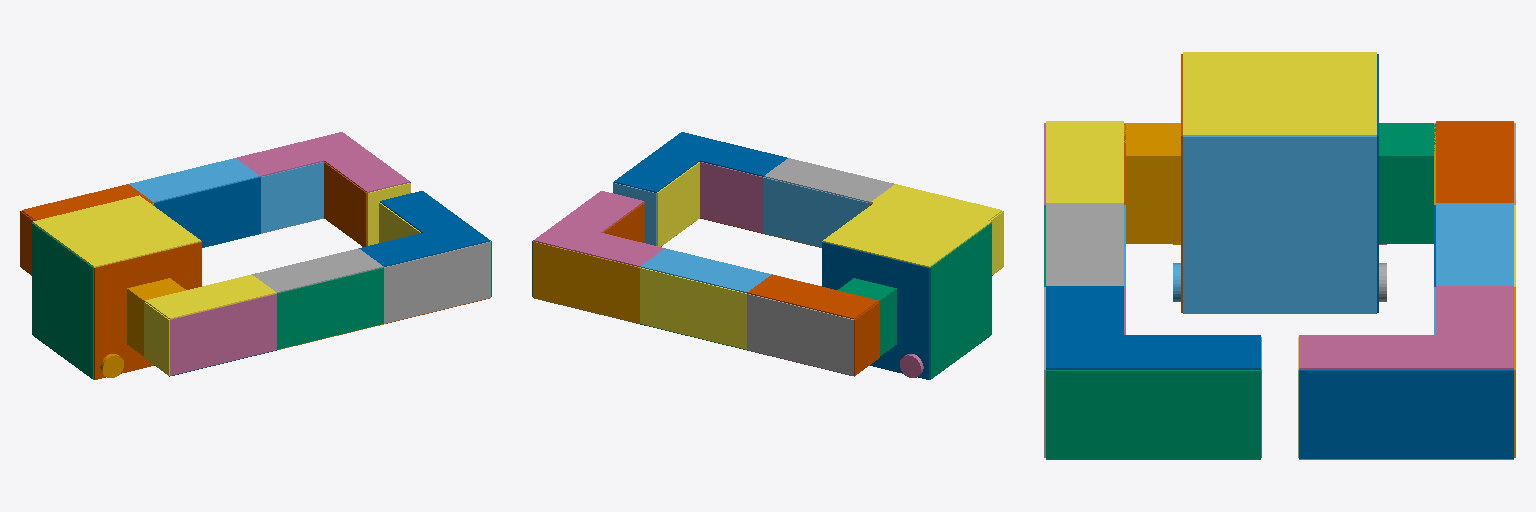
--- What the picture shows (computed from the rendered views, not written in the file) ---
The picture shows the robot from 3 angles, left to right: view 1: azimuth 30°, elevation 25°; view 2: azimuth 150°, elevation 25°; view 3: azimuth 270°, elevation 25°; orthographic projection.
Robot: robot — 76 links, 75 joints (2 continuous, 73 fixed); root link body; default pose: all joints at 0.
Links seen in each view (by area): view 1: body_sensor_0_stop, body_sensor_0_top, body_sensor_0_right, right_arm_sensor_0_right, right_arm_sensor_1_right, right_arm_sensor_2_right, left_arm_sensor_1_right, left_arm_sensor_2_right, right_arm_sensor_0_top, right_arm_sensor_2_top, left_arm_sensor_1_top, right_arm_sensor_1_top (+10 smaller); view 2: body_sensor_0_stop, body_sensor_0_top, body_sensor_0_left, left_arm_sensor_0_left, left_arm_sensor_1_left, left_arm_sensor_2_left, right_arm_sensor_1_left, right_arm_sensor_2_left, left_arm_sensor_0_top, left_arm_sensor_2_top, left_arm_sensor_1_top, right_arm_sensor_1_top (+10 smaller); view 3: body_sensor_0_start, body_sensor_0_top, left_hand_sensor_0_top, right_hand_sensor_0_top, left_arm_sensor_0_start, right_arm_sensor_0_start, joint_1, joint_2, left_arm_sensor_2_top, right_arm_sensor_2_top, left_arm_sensor_1_top, right_arm_sensor_1_top (+4 smaller).
Boxes of the visible links, x1,y1,x2,y2 form: body_sensor_0_stop: (32, 223, 93, 379); body_sensor_0_top: (33, 195, 200, 267); body_sensor_0_right: (94, 242, 201, 379); right_arm_sensor_0_right: (170, 294, 276, 375); right_arm_sensor_1_right: (277, 267, 383, 349); right_arm_sensor_2_right: (384, 241, 490, 323); left_arm_sensor_1_right: (154, 177, 260, 247); left_arm_sensor_2_right: (261, 162, 323, 232); right_arm_sensor_0_top: (145, 274, 276, 318); right_arm_sensor_2_top: (359, 222, 489, 266); left_arm_sensor_1_top: (129, 158, 259, 202); right_arm_sensor_1_top: (252, 248, 383, 292); body_sensor_0_stop: (930, 223, 991, 379); body_sensor_0_top: (823, 195, 990, 267); body_sensor_0_left: (822, 242, 929, 379); left_arm_sensor_0_left: (747, 294, 853, 375); left_arm_sensor_1_left: (640, 267, 746, 349); left_arm_sensor_2_left: (533, 241, 639, 323); right_arm_sensor_1_left: (763, 177, 869, 247); right_arm_sensor_2_left: (700, 162, 762, 232); left_arm_sensor_0_top: (747, 274, 878, 318); left_arm_sensor_2_top: (534, 222, 664, 266); left_arm_sensor_1_top: (640, 248, 771, 292); right_arm_sensor_1_top: (764, 158, 894, 202); body_sensor_0_start: (1183, 136, 1376, 313); body_sensor_0_top: (1183, 52, 1376, 135); left_hand_sensor_0_top: (1299, 370, 1435, 458); right_hand_sensor_0_top: (1124, 370, 1260, 458); left_arm_sensor_0_start: (1436, 370, 1513, 458); right_arm_sensor_0_start: (1046, 370, 1123, 458); joint_1: (1379, 123, 1435, 243); joint_2: (1124, 123, 1180, 243); left_arm_sensor_2_top: (1436, 286, 1513, 369); right_arm_sensor_2_top: (1046, 286, 1123, 369); left_arm_sensor_1_top: (1436, 203, 1513, 285); right_arm_sensor_1_top: (1046, 203, 1123, 285).
Size in the robot's own frame: 3.32 by 2.42 by 1.01 metres.
Geometry: primitives only (box / cylinder / sphere), no mesh files.

URDF robot description (robot):
<?xml version="1.0"?>
    <robot name="robot">


    <!-- body -->
    <link name="body">
        <inertial>
            <origin xyz="0 0 0" rpy="0 0 0"/>
            <mass value="100"/>
            <inertia ixx="15" ixy="0" ixz="0" iyy="15" iyz="0" izz="15"/>
        </inertial>
        <visual>
            <origin xyz="0 0 0" rpy="0 0 0"/>
            <geometry>
                <box size="1 1 1"/>
            </geometry>
        </visual>
        <collision>
            <origin xyz="0 0 0" rpy="0 0 0"/>
            <geometry>
                <box size="1 1 1"/>
            </geometry>
        </collision>
    </link>


    <!-- body_sensor_0_start -->
    <link name="body_sensor_0_start">
        <inertial>
            <origin xyz="0 0 0" rpy="0 0 0"/>
            <mass value="0"/>
            <inertia ixx="0" ixy="0" ixz="0" iyy="0" iyz="0" izz="0"/>
        </inertial>
        <visual>
            <origin xyz="0 0 0" rpy="0 0 0"/>
            <geometry>
                <box size="0.02 1 1"/>
            </geometry>
        </visual>
        <collision>
            <origin xyz="0 0 0" rpy="0 0 0"/>
            <geometry>
                <box size="0.02 1 1"/>
            </geometry>
        </collision>
    </link>
    <!-- Joint: body, body_sensor_0_start -->
    <joint name="body_body_sensor_0_start_joint" type="fixed">
        <parent link="body"/>
        <child link="body_sensor_0_start"/>
        <origin xyz="0.5 0 0"
                rpy="0 0 0"/>
        <axis xyz="1 0 0"/>
        
    </joint>


    <!-- body_sensor_0_stop -->
    <link name="body_sensor_0_stop">
        <inertial>
            <origin xyz="0 0 0" rpy="0 0 0"/>
            <mass value="0"/>
            <inertia ixx="0" ixy="0" ixz="0" iyy="0" iyz="0" izz="0"/>
        </inertial>
        <visual>
            <origin xyz="0 0 0" rpy="0 0 0"/>
            <geometry>
                <box size="0.02 1 1"/>
            </geometry>
        </visual>
        <collision>
            <origin xyz="0 0 0" rpy="0 0 0"/>
            <geometry>
                <box size="0.02 1 1"/>
            </geometry>
        </collision>
    </link>
    <!-- Joint: body, body_sensor_0_stop -->
    <joint name="body_body_sensor_0_stop_joint" type="fixed">
        <parent link="body"/>
        <child link="body_sensor_0_stop"/>
        <origin xyz="-0.5 0 0"
                rpy="0 0 0"/>
        <axis xyz="1 0 0"/>
        
    </joint>


    <!-- body_sensor_0_top -->
    <link name="body_sensor_0_top">
        <inertial>
            <origin xyz="0 0 0" rpy="0 0 0"/>
            <mass value="0"/>
            <inertia ixx="0" ixy="0" ixz="0" iyy="0" iyz="0" izz="0"/>
        </inertial>
        <visual>
            <origin xyz="0 0 0" rpy="0 0 0"/>
            <geometry>
                <box size="1.0 1 0.02"/>
            </geometry>
        </visual>
        <collision>
            <origin xyz="0 0 0" rpy="0 0 0"/>
            <geometry>
                <box size="1.0 1 0.02"/>
            </geometry>
        </collision>
    </link>
    <!-- Joint: body, body_sensor_0_top -->
    <joint name="body_body_sensor_0_top_joint" type="fixed">
        <parent link="body"/>
        <child link="body_sensor_0_top"/>
        <origin xyz="0 0 0.5"
                rpy="0 0 0"/>
        <axis xyz="1 0 0"/>
        
    </joint>


    <!-- body_sensor_0_left -->
    <link name="body_sensor_0_left">
        <inertial>
            <origin xyz="0 0 0" rpy="0 0 0"/>
            <mass value="0"/>
            <inertia ixx="0" ixy="0" ixz="0" iyy="0" iyz="0" izz="0"/>
        </inertial>
        <visual>
            <origin xyz="0 0 0" rpy="0 0 0"/>
            <geometry>
                <box size="1.0 0.02 1"/>
            </geometry>
        </visual>
        <collision>
            <origin xyz="0 0 0" rpy="0 0 0"/>
            <geometry>
                <box size="1.0 0.02 1"/>
            </geometry>
        </collision>
    </link>
    <!-- Joint: body, body_sensor_0_left -->
    <joint name="body_body_sensor_0_left_joint" type="fixed">
        <parent link="body"/>
        <child link="body_sensor_0_left"/>
        <origin xyz="0 0.5 0"
                rpy="0 0 0"/>
        <axis xyz="1 0 0"/>
        
    </joint>


    <!-- body_sensor_0_right -->
    <link name="body_sensor_0_right">
        <inertial>
            <origin xyz="0 0 0" rpy="0 0 0"/>
            <mass value="0"/>
            <inertia ixx="0" ixy="0" ixz="0" iyy="0" iyz="0" izz="0"/>
        </inertial>
        <visual>
            <origin xyz="0 0 0" rpy="0 0 0"/>
            <geometry>
                <box size="1.0 0.02 1"/>
            </geometry>
        </visual>
        <collision>
            <origin xyz="0 0 0" rpy="0 0 0"/>
            <geometry>
                <box size="1.0 0.02 1"/>
            </geometry>
        </collision>
    </link>
    <!-- Joint: body, body_sensor_0_right -->
    <joint name="body_body_sensor_0_right_joint" type="fixed">
        <parent link="body"/>
        <child link="body_sensor_0_right"/>
        <origin xyz="0 -0.5 0"
                rpy="0 0 0"/>
        <axis xyz="1 0 0"/>
        
    </joint>


    <!-- back_left_wheel -->
    <link name="back_left_wheel">
        <inertial>
            <origin xyz="0 0 0" rpy="0 0 0"/>
            <mass value="0.1"/>
            <inertia ixx="0.0005" ixy="0" ixz="0" iyy="0.0005" iyz="0" izz="0.0005"/>
        </inertial>
        <visual>
            <origin xyz="0 0 0" rpy="0 0 0"/>
            <geometry>
                <cylinder radius="0.1" length="0.1"/>
            </geometry>
        </visual>
        <collision>
            <origin xyz="0 0 0" rpy="0 0 0"/>
            <geometry>
                <cylinder radius="0.1" length="0.1"/>
            </geometry>
        </collision>
    </link>
    <!-- Joint: body, back_left_wheel -->
    <joint name="body_back_left_wheel_joint" type="fixed">
        <parent link="body"/>
        <child link="back_left_wheel"/>
        <origin xyz="-0.35 0.5 -0.4"
                rpy="1.5708 0 0"/>
        <axis xyz="1 0 0"/>
        
    </joint>


    <!-- from_left_wheel -->
    <link name="from_left_wheel">
        <inertial>
            <origin xyz="0 0 0" rpy="0 0 0"/>
            <mass value="0.1"/>
            <inertia ixx="0.0005" ixy="0" ixz="0" iyy="0.0005" iyz="0" izz="0.0005"/>
        </inertial>
        <visual>
            <origin xyz="0 0 0" rpy="0 0 0"/>
            <geometry>
                <cylinder radius="0.1" length="0.1"/>
            </geometry>
        </visual>
        <collision>
            <origin xyz="0 0 0" rpy="0 0 0"/>
            <geometry>
                <cylinder radius="0.1" length="0.1"/>
            </geometry>
        </collision>
    </link>
    <!-- Joint: body, from_left_wheel -->
    <joint name="body_from_left_wheel_joint" type="fixed">
        <parent link="body"/>
        <child link="from_left_wheel"/>
        <origin xyz="0.35 0.5 -0.4"
                rpy="1.5708 0 0"/>
        <axis xyz="1 0 0"/>
        
    </joint>


    <!-- back_right_wheel -->
    <link name="back_right_wheel">
        <inertial>
            <origin xyz="0 0 0" rpy="0 0 0"/>
            <mass value="0.1"/>
            <inertia ixx="0.0005" ixy="0" ixz="0" iyy="0.0005" iyz="0" izz="0.0005"/>
        </inertial>
        <visual>
            <origin xyz="0 0 0" rpy="0 0 0"/>
            <geometry>
                <cylinder radius="0.1" length="0.1"/>
            </geometry>
        </visual>
        <collision>
            <origin xyz="0 0 0" rpy="0 0 0"/>
            <geometry>
                <cylinder radius="0.1" length="0.1"/>
            </geometry>
        </collision>
    </link>
    <!-- Joint: body, back_right_wheel -->
    <joint name="body_back_right_wheel_joint" type="fixed">
        <parent link="body"/>
        <child link="back_right_wheel"/>
        <origin xyz="-0.35 -0.5 -0.4"
                rpy="1.5708 0 0"/>
        <axis xyz="1 0 0"/>
        
    </joint>


    <!-- from_right_wheel -->
    <link name="from_right_wheel">
        <inertial>
            <origin xyz="0 0 0" rpy="0 0 0"/>
            <mass value="0.1"/>
            <inertia ixx="0.0005" ixy="0" ixz="0" iyy="0.0005" iyz="0" izz="0.0005"/>
        </inertial>
        <visual>
            <origin xyz="0 0 0" rpy="0 0 0"/>
            <geometry>
                <cylinder radius="0.1" length="0.1"/>
            </geometry>
        </visual>
        <collision>
            <origin xyz="0 0 0" rpy="0 0 0"/>
            <geometry>
                <cylinder radius="0.1" length="0.1"/>
            </geometry>
        </collision>
    </link>
    <!-- Joint: body, from_right_wheel -->
    <joint name="body_from_right_wheel_joint" type="fixed">
        <parent link="body"/>
        <child link="from_right_wheel"/>
        <origin xyz="0.35 -0.5 -0.4"
                rpy="1.5708 0 0"/>
        <axis xyz="1 0 0"/>
        
    </joint>


    <!-- joint_1 -->
    <link name="joint_1">
        <inertial>
            <origin xyz="0 0 0" rpy="0 0 0"/>
            <mass value="0.1"/>
            <inertia ixx="0.05" ixy="0.05" ixz="0.05" iyy="0.05" iyz="0.05" izz="0.05"/>
        </inertial>
        <visual>
            <origin xyz="0 0 0" rpy="0 0 0"/>
            <geometry>
                <box size="0.4 0.3 0.5"/>
            </geometry>
        </visual>
        <collision>
            <origin xyz="0 0 0" rpy="0 0 0"/>
            <geometry>
                <box size="0.4 0.3 0.5"/>
            </geometry>
        </collision>
    </link>
    <!-- Joint: body, joint_1 -->
    <joint name="body_joint_1_joint" type="continuous">
        <parent link="body"/>
        <child link="joint_1"/>
        <origin xyz="0 0.65 0"
                rpy="0 0 0"/>
        <axis xyz="0 -1 0"/>
        <limit lower="0" upper="1.5707963267948966" effort="999" velocity="999"/>
    </joint>


    <!-- left_arm -->
    <link name="left_arm">
        <inertial>
            <origin xyz="0 0 0" rpy="0 0 0"/>
            <mass value="0.1"/>
            <inertia ixx="0.05" ixy="0.05" ixz="0.05" iyy="0.05" iyz="0.05" izz="0.05"/>
        </inertial>
        <visual>
            <origin xyz="0 0 0" rpy="0 0 0"/>
            <geometry>
                <box size="3 0.4 0.5"/>
            </geometry>
        </visual>
        <collision>
            <origin xyz="0 0 0" rpy="0 0 0"/>
            <geometry>
                <box size="3 0.4 0.5"/>
            </geometry>
        </collision>
    </link>


    <!-- left_arm_sensor_0_start -->
    <link name="left_arm_sensor_0_start">
        <inertial>
            <origin xyz="0 0 0" rpy="0 0 0"/>
            <mass value="0"/>
            <inertia ixx="0" ixy="0" ixz="0" iyy="0" iyz="0" izz="0"/>
        </inertial>
        <visual>
            <origin xyz="0 0 0" rpy="0 0 0"/>
            <geometry>
                <box size="0.02 0.4 0.5"/>
            </geometry>
        </visual>
        <collision>
            <origin xyz="0 0 0" rpy="0 0 0"/>
            <geometry>
                <box size="0.02 0.4 0.5"/>
            </geometry>
        </collision>
    </link>
    <!-- Joint: left_arm, left_arm_sensor_0_start -->
    <joint name="left_arm_left_arm_sensor_0_start_joint" type="fixed">
        <parent link="left_arm"/>
        <child link="left_arm_sensor_0_start"/>
        <origin xyz="1.5 0 0"
                rpy="0 0 0"/>
        <axis xyz="1 0 0"/>
        
    </joint>


    <!-- left_arm_sensor_0_top -->
    <link name="left_arm_sensor_0_top">
        <inertial>
            <origin xyz="0 0 0" rpy="0 0 0"/>
            <mass value="0"/>
            <inertia ixx="0" ixy="0" ixz="0" iyy="0" iyz="0" izz="0"/>
        </inertial>
        <visual>
            <origin xyz="0 0 0" rpy="0 0 0"/>
            <geometry>
                <box size="1.0 0.4 0.02"/>
            </geometry>
        </visual>
        <collision>
            <origin xyz="0 0 0" rpy="0 0 0"/>
            <geometry>
                <box size="1.0 0.4 0.02"/>
            </geometry>
        </collision>
    </link>
    <!-- Joint: left_arm, left_arm_sensor_0_top -->
    <joint name="left_arm_left_arm_sensor_0_top_joint" type="fixed">
        <parent link="left_arm"/>
        <child link="left_arm_sensor_0_top"/>
        <origin xyz="-1.0 0 0.25"
                rpy="0 0 0"/>
        <axis xyz="1 0 0"/>
        
    </joint>


    <!-- left_arm_sensor_0_bottom -->
    <link name="left_arm_sensor_0_bottom">
        <inertial>
            <origin xyz="0 0 0" rpy="0 0 0"/>
            <mass value="0"/>
            <inertia ixx="0" ixy="0" ixz="0" iyy="0" iyz="0" izz="0"/>
        </inertial>
        <visual>
            <origin xyz="0 0 0" rpy="0 0 0"/>
            <geometry>
                <box size="1.0 0.4 0.02"/>
            </geometry>
        </visual>
        <collision>
            <origin xyz="0 0 0" rpy="0 0 0"/>
            <geometry>
                <box size="1.0 0.4 0.02"/>
            </geometry>
        </collision>
    </link>
    <!-- Joint: left_arm, left_arm_sensor_0_bottom -->
    <joint name="left_arm_left_arm_sensor_0_bottom_joint" type="fixed">
        <parent link="left_arm"/>
        <child link="left_arm_sensor_0_bottom"/>
        <origin xyz="-1.0 0 -0.25"
                rpy="0 0 0"/>
        <axis xyz="1 0 0"/>
        
    </joint>


    <!-- left_arm_sensor_0_left -->
    <link name="left_arm_sensor_0_left">
        <inertial>
            <origin xyz="0 0 0" rpy="0 0 0"/>
            <mass value="0"/>
            <inertia ixx="0" ixy="0" ixz="0" iyy="0" iyz="0" izz="0"/>
        </inertial>
        <visual>
            <origin xyz="0 0 0" rpy="0 0 0"/>
            <geometry>
                <box size="1.0 0.02 0.5"/>
            </geometry>
        </visual>
        <collision>
            <origin xyz="0 0 0" rpy="0 0 0"/>
            <geometry>
                <box size="1.0 0.02 0.5"/>
            </geometry>
        </collision>
    </link>
    <!-- Joint: left_arm, left_arm_sensor_0_left -->
    <joint name="left_arm_left_arm_sensor_0_left_joint" type="fixed">
        <parent link="left_arm"/>
        <child link="left_arm_sensor_0_left"/>
        <origin xyz="-1.0 0.2 0"
                rpy="0 0 0"/>
        <axis xyz="1 0 0"/>
        
    </joint>


    <!-- left_arm_sensor_0_right -->
    <link name="left_arm_sensor_0_right">
        <inertial>
            <origin xyz="0 0 0" rpy="0 0 0"/>
            <mass value="0"/>
            <inertia ixx="0" ixy="0" ixz="0" iyy="0" iyz="0" izz="0"/>
        </inertial>
        <visual>
            <origin xyz="0 0 0" rpy="0 0 0"/>
            <geometry>
                <box size="1.0 0.02 0.5"/>
            </geometry>
        </visual>
        <collision>
            <origin xyz="0 0 0" rpy="0 0 0"/>
            <geometry>
                <box size="1.0 0.02 0.5"/>
            </geometry>
        </collision>
    </link>
    <!-- Joint: left_arm, left_arm_sensor_0_right -->
    <joint name="left_arm_left_arm_sensor_0_right_joint" type="fixed">
        <parent link="left_arm"/>
        <child link="left_arm_sensor_0_right"/>
        <origin xyz="-1.0 -0.2 0"
                rpy="0 0 0"/>
        <axis xyz="1 0 0"/>
        
    </joint>


    <!-- left_arm_sensor_1_top -->
    <link name="left_arm_sensor_1_top">
        <inertial>
            <origin xyz="0 0 0" rpy="0 0 0"/>
            <mass value="0"/>
            <inertia ixx="0" ixy="0" ixz="0" iyy="0" iyz="0" izz="0"/>
        </inertial>
        <visual>
            <origin xyz="0 0 0" rpy="0 0 0"/>
            <geometry>
                <box size="1.0 0.4 0.02"/>
            </geometry>
        </visual>
        <collision>
            <origin xyz="0 0 0" rpy="0 0 0"/>
            <geometry>
                <box size="1.0 0.4 0.02"/>
            </geometry>
        </collision>
    </link>
    <!-- Joint: left_arm, left_arm_sensor_1_top -->
    <joint name="left_arm_left_arm_sensor_1_top_joint" type="fixed">
        <parent link="left_arm"/>
        <child link="left_arm_sensor_1_top"/>
        <origin xyz="0.0 0 0.25"
                rpy="0 0 0"/>
        <axis xyz="1 0 0"/>
        
    </joint>


    <!-- left_arm_sensor_1_bottom -->
    <link name="left_arm_sensor_1_bottom">
        <inertial>
            <origin xyz="0 0 0" rpy="0 0 0"/>
            <mass value="0"/>
            <inertia ixx="0" ixy="0" ixz="0" iyy="0" iyz="0" izz="0"/>
        </inertial>
        <visual>
            <origin xyz="0 0 0" rpy="0 0 0"/>
            <geometry>
                <box size="1.0 0.4 0.02"/>
            </geometry>
        </visual>
        <collision>
            <origin xyz="0 0 0" rpy="0 0 0"/>
            <geometry>
                <box size="1.0 0.4 0.02"/>
            </geometry>
        </collision>
    </link>
    <!-- Joint: left_arm, left_arm_sensor_1_bottom -->
    <joint name="left_arm_left_arm_sensor_1_bottom_joint" type="fixed">
        <parent link="left_arm"/>
        <child link="left_arm_sensor_1_bottom"/>
        <origin xyz="0.0 0 -0.25"
                rpy="0 0 0"/>
        <axis xyz="1 0 0"/>
        
    </joint>


    <!-- left_arm_sensor_1_left -->
    <link name="left_arm_sensor_1_left">
        <inertial>
            <origin xyz="0 0 0" rpy="0 0 0"/>
            <mass value="0"/>
            <inertia ixx="0" ixy="0" ixz="0" iyy="0" iyz="0" izz="0"/>
        </inertial>
        <visual>
            <origin xyz="0 0 0" rpy="0 0 0"/>
            <geometry>
                <box size="1.0 0.02 0.5"/>
            </geometry>
        </visual>
        <collision>
            <origin xyz="0 0 0" rpy="0 0 0"/>
            <geometry>
                <box size="1.0 0.02 0.5"/>
            </geometry>
        </collision>
    </link>
    <!-- Joint: left_arm, left_arm_sensor_1_left -->
    <joint name="left_arm_left_arm_sensor_1_left_joint" type="fixed">
        <parent link="left_arm"/>
        <child link="left_arm_sensor_1_left"/>
        <origin xyz="0.0 0.2 0"
                rpy="0 0 0"/>
        <axis xyz="1 0 0"/>
        
    </joint>


    <!-- left_arm_sensor_1_right -->
    <link name="left_arm_sensor_1_right">
        <inertial>
            <origin xyz="0 0 0" rpy="0 0 0"/>
            <mass value="0"/>
            <inertia ixx="0" ixy="0" ixz="0" iyy="0" iyz="0" izz="0"/>
        </inertial>
        <visual>
            <origin xyz="0 0 0" rpy="0 0 0"/>
            <geometry>
                <box size="1.0 0.02 0.5"/>
            </geometry>
        </visual>
        <collision>
            <origin xyz="0 0 0" rpy="0 0 0"/>
            <geometry>
                <box size="1.0 0.02 0.5"/>
            </geometry>
        </collision>
    </link>
    <!-- Joint: left_arm, left_arm_sensor_1_right -->
    <joint name="left_arm_left_arm_sensor_1_right_joint" type="fixed">
        <parent link="left_arm"/>
        <child link="left_arm_sensor_1_right"/>
        <origin xyz="0.0 -0.2 0"
                rpy="0 0 0"/>
        <axis xyz="1 0 0"/>
        
    </joint>


    <!-- left_arm_sensor_2_stop -->
    <link name="left_arm_sensor_2_stop">
        <inertial>
            <origin xyz="0 0 0" rpy="0 0 0"/>
            <mass value="0"/>
            <inertia ixx="0" ixy="0" ixz="0" iyy="0" iyz="0" izz="0"/>
        </inertial>
        <visual>
            <origin xyz="0 0 0" rpy="0 0 0"/>
            <geometry>
                <box size="0.02 0.4 0.5"/>
            </geometry>
        </visual>
        <collision>
            <origin xyz="0 0 0" rpy="0 0 0"/>
            <geometry>
                <box size="0.02 0.4 0.5"/>
            </geometry>
        </collision>
    </link>
    <!-- Joint: left_arm, left_arm_sensor_2_stop -->
    <joint name="left_arm_left_arm_sensor_2_stop_joint" type="fixed">
        <parent link="left_arm"/>
        <child link="left_arm_sensor_2_stop"/>
        <origin xyz="-1.5 0 0"
                rpy="0 0 0"/>
        <axis xyz="1 0 0"/>
        
    </joint>


    <!-- left_arm_sensor_2_top -->
    <link name="left_arm_sensor_2_top">
        <inertial>
            <origin xyz="0 0 0" rpy="0 0 0"/>
            <mass value="0"/>
            <inertia ixx="0" ixy="0" ixz="0" iyy="0" iyz="0" izz="0"/>
        </inertial>
        <visual>
            <origin xyz="0 0 0" rpy="0 0 0"/>
            <geometry>
                <box size="1.0 0.4 0.02"/>
            </geometry>
        </visual>
        <collision>
            <origin xyz="0 0 0" rpy="0 0 0"/>
            <geometry>
                <box size="1.0 0.4 0.02"/>
            </geometry>
        </collision>
    </link>
    <!-- Joint: left_arm, left_arm_sensor_2_top -->
    <joint name="left_arm_left_arm_sensor_2_top_joint" type="fixed">
        <parent link="left_arm"/>
        <child link="left_arm_sensor_2_top"/>
        <origin xyz="1.0 0 0.25"
                rpy="0 0 0"/>
        <axis xyz="1 0 0"/>
        
    </joint>


    <!-- left_arm_sensor_2_bottom -->
    <link name="left_arm_sensor_2_bottom">
        <inertial>
            <origin xyz="0 0 0" rpy="0 0 0"/>
            <mass value="0"/>
            <inertia ixx="0" ixy="0" ixz="0" iyy="0" iyz="0" izz="0"/>
        </inertial>
        <visual>
            <origin xyz="0 0 0" rpy="0 0 0"/>
            <geometry>
                <box size="1.0 0.4 0.02"/>
            </geometry>
        </visual>
        <collision>
            <origin xyz="0 0 0" rpy="0 0 0"/>
            <geometry>
                <box size="1.0 0.4 0.02"/>
            </geometry>
        </collision>
    </link>
    <!-- Joint: left_arm, left_arm_sensor_2_bottom -->
    <joint name="left_arm_left_arm_sensor_2_bottom_joint" type="fixed">
        <parent link="left_arm"/>
        <child link="left_arm_sensor_2_bottom"/>
        <origin xyz="1.0 0 -0.25"
                rpy="0 0 0"/>
        <axis xyz="1 0 0"/>
        
    </joint>


    <!-- left_arm_sensor_2_left -->
    <link name="left_arm_sensor_2_left">
        <inertial>
            <origin xyz="0 0 0" rpy="0 0 0"/>
            <mass value="0"/>
            <inertia ixx="0" ixy="0" ixz="0" iyy="0" iyz="0" izz="0"/>
        </inertial>
        <visual>
            <origin xyz="0 0 0" rpy="0 0 0"/>
            <geometry>
                <box size="1.0 0.02 0.5"/>
            </geometry>
        </visual>
        <collision>
            <origin xyz="0 0 0" rpy="0 0 0"/>
            <geometry>
                <box size="1.0 0.02 0.5"/>
            </geometry>
        </collision>
    </link>
    <!-- Joint: left_arm, left_arm_sensor_2_left -->
    <joint name="left_arm_left_arm_sensor_2_left_joint" type="fixed">
        <parent link="left_arm"/>
        <child link="left_arm_sensor_2_left"/>
        <origin xyz="1.0 0.2 0"
                rpy="0 0 0"/>
        <axis xyz="1 0 0"/>
        
    </joint>


    <!-- left_arm_sensor_2_right -->
    <link name="left_arm_sensor_2_right">
        <inertial>
            <origin xyz="0 0 0" rpy="0 0 0"/>
            <mass value="0"/>
            <inertia ixx="0" ixy="0" ixz="0" iyy="0" iyz="0" izz="0"/>
        </inertial>
        <visual>
            <origin xyz="0 0 0" rpy="0 0 0"/>
            <geometry>
                <box size="1.0 0.02 0.5"/>
            </geometry>
        </visual>
        <collision>
            <origin xyz="0 0 0" rpy="0 0 0"/>
            <geometry>
                <box size="1.0 0.02 0.5"/>
            </geometry>
        </collision>
    </link>
    <!-- Joint: left_arm, left_arm_sensor_2_right -->
    <joint name="left_arm_left_arm_sensor_2_right_joint" type="fixed">
        <parent link="left_arm"/>
        <child link="left_arm_sensor_2_right"/>
        <origin xyz="1.0 -0.2 0"
                rpy="0 0 0"/>
        <axis xyz="1 0 0"/>
        
    </joint>
    <!-- Joint: joint_1, left_arm -->
    <joint name="joint_1_left_arm_joint" type="fixed">
        <parent link="joint_1"/>
        <child link="left_arm"/>
        <origin xyz="1.3 0.35 0"
                rpy="0 0 0"/>
        <axis xyz="1 0 0"/>
        
    </joint>


    <!-- left_hand -->
    <link name="left_hand">
        <inertial>
            <origin xyz="0 0 0" rpy="0 0 0"/>
            <mass value="0.1"/>
            <inertia ixx="0.05" ixy="0.05" ixz="0.05" iyy="0.05" iyz="0.05" izz="0.05"/>
        </inertial>
        <visual>
            <origin xyz="0 0 0" rpy="0 0 0"/>
            <geometry>
                <box size="0.4 0.7 0.5"/>
            </geometry>
        </visual>
        <collision>
            <origin xyz="0 0 0" rpy="0 0 0"/>
            <geometry>
                <box size="0.4 0.7 0.5"/>
            </geometry>
        </collision>
    </link>


    <!-- left_hand_sensor_0_stop -->
    <link name="left_hand_sensor_0_stop">
        <inertial>
            <origin xyz="0 0 0" rpy="0 0 0"/>
            <mass value="0"/>
            <inertia ixx="0" ixy="0" ixz="0" iyy="0" iyz="0" izz="0"/>
        </inertial>
        <visual>
            <origin xyz="0 0 0" rpy="0 0 0"/>
            <geometry>
                <box size="0.4 0.02 0.5"/>
            </geometry>
        </visual>
        <collision>
            <origin xyz="0 0 0" rpy="0 0 0"/>
            <geometry>
                <box size="0.4 0.02 0.5"/>
            </geometry>
        </collision>
    </link>
    <!-- Joint: left_hand, left_hand_sensor_0_stop -->
    <joint name="left_hand_left_hand_sensor_0_stop_joint" type="fixed">
        <parent link="left_hand"/>
        <child link="left_hand_sensor_0_stop"/>
        <origin xyz="0 -0.35 0"
                rpy="0 0 0"/>
        <axis xyz="0 0 1"/>
        
    </joint>


    <!-- left_hand_sensor_0_top -->
    <link name="left_hand_sensor_0_top">
        <inertial>
            <origin xyz="0 0 0" rpy="0 0 0"/>
            <mass value="0"/>
            <inertia ixx="0" ixy="0" ixz="0" iyy="0" iyz="0" izz="0"/>
        </inertial>
        <visual>
            <origin xyz="0 0 0" rpy="0 0 0"/>
            <geometry>
                <box size="0.02 0.7 0.5"/>
            </geometry>
        </visual>
        <collision>
            <origin xyz="0 0 0" rpy="0 0 0"/>
            <geometry>
                <box size="0.02 0.7 0.5"/>
            </geometry>
        </collision>
    </link>
    <!-- Joint: left_hand, left_hand_sensor_0_top -->
    <joint name="left_hand_left_hand_sensor_0_top_joint" type="fixed">
        <parent link="left_hand"/>
        <child link="left_hand_sensor_0_top"/>
        <origin xyz="0.2 0 0"
                rpy="0 0 0"/>
        <axis xyz="0 0 1"/>
        
    </joint>


    <!-- left_hand_sensor_0_bottom -->
    <link name="left_hand_sensor_0_bottom">
        <inertial>
            <origin xyz="0 0 0" rpy="0 0 0"/>
            <mass value="0"/>
            <inertia ixx="0" ixy="0" ixz="0" iyy="0" iyz="0" izz="0"/>
        </inertial>
        <visual>
            <origin xyz="0 0 0" rpy="0 0 0"/>
            <geometry>
                <box size="0.02 0.7 0.5"/>
            </geometry>
        </visual>
        <collision>
            <origin xyz="0 0 0" rpy="0 0 0"/>
            <geometry>
                <box size="0.02 0.7 0.5"/>
            </geometry>
        </collision>
    </link>
    <!-- Joint: left_hand, left_hand_sensor_0_bottom -->
    <joint name="left_hand_left_hand_sensor_0_bottom_joint" type="fixed">
        <parent link="left_hand"/>
        <child link="left_hand_sensor_0_bottom"/>
        <origin xyz="-0.2 0 0"
                rpy="0 0 0"/>
        <axis xyz="0 0 1"/>
        
    </joint>


    <!-- left_hand_sensor_0_left -->
    <link name="left_hand_sensor_0_left">
        <inertial>
            <origin xyz="0 0 0" rpy="0 0 0"/>
            <mass value="0"/>
            <inertia ixx="0" ixy="0" ixz="0" iyy="0" iyz="0" izz="0"/>
        </inertial>
        <visual>
            <origin xyz="0 0 0" rpy="0 0 0"/>
            <geometry>
                <box size="0.4 0.7 0.02"/>
            </geometry>
        </visual>
        <collision>
            <origin xyz="0 0 0" rpy="0 0 0"/>
            <geometry>
                <box size="0.4 0.7 0.02"/>
            </geometry>
        </collision>
    </link>
    <!-- Joint: left_hand, left_hand_sensor_0_left -->
    <joint name="left_hand_left_hand_sensor_0_left_joint" type="fixed">
        <parent link="left_hand"/>
        <child link="left_hand_sensor_0_left"/>
        <origin xyz="0 0 0.25"
                rpy="0 0 0"/>
        <axis xyz="0 0 1"/>
        
    </joint>


    <!-- left_hand_sensor_0_right -->
    <link name="left_hand_sensor_0_right">
        <inertial>
            <origin xyz="0 0 0" rpy="0 0 0"/>
            <mass value="0"/>
            <inertia ixx="0" ixy="0" ixz="0" iyy="0" iyz="0" izz="0"/>
        </inertial>
        <visual>
            <origin xyz="0 0 0" rpy="0 0 0"/>
            <geometry>
                <box size="0.4 0.7 0.02"/>
            </geometry>
        </visual>
        <collision>
            <origin xyz="0 0 0" rpy="0 0 0"/>
            <geometry>
                <box size="0.4 0.7 0.02"/>
            </geometry>
        </collision>
    </link>
    <!-- Joint: left_hand, left_hand_sensor_0_right -->
    <joint name="left_hand_left_hand_sensor_0_right_joint" type="fixed">
        <parent link="left_hand"/>
        <child link="left_hand_sensor_0_right"/>
        <origin xyz="0 0 -0.25"
                rpy="0 0 0"/>
        <axis xyz="0 0 1"/>
        
    </joint>
    <!-- Joint: left_arm, left_hand -->
    <joint name="left_arm_left_hand_joint" type="fixed">
        <parent link="left_arm"/>
        <child link="left_hand"/>
        <origin xyz="1.3 -0.55 0"
                rpy="0 0 0"/>
        <axis xyz="0 0 1"/>
        
    </joint>


    <!-- joint_2 -->
    <link name="joint_2">
        <inertial>
            <origin xyz="0 0 0" rpy="0 0 0"/>
            <mass value="0.1"/>
            <inertia ixx="0.05" ixy="0.05" ixz="0.05" iyy="0.05" iyz="0.05" izz="0.05"/>
        </inertial>
        <visual>
            <origin xyz="0 0 0" rpy="0 0 0"/>
            <geometry>
                <box size="0.4 0.3 0.5"/>
            </geometry>
        </visual>
        <collision>
            <origin xyz="0 0 0" rpy="0 0 0"/>
            <geometry>
                <box size="0.4 0.3 0.5"/>
            </geometry>
        </collision>
    </link>
    <!-- Joint: body, joint_2 -->
    <joint name="body_joint_2_joint" type="continuous">
        <parent link="body"/>
        <child link="joint_2"/>
        <origin xyz="0 -0.65 0"
                rpy="0 0 0"/>
        <axis xyz="0 -1 0"/>
        <limit lower="0" upper="1.5707963267948966" effort="999" velocity="999"/>
    </joint>


    <!-- right_arm -->
    <link name="right_arm">
        <inertial>
            <origin xyz="0 0 0" rpy="0 0 0"/>
            <mass value="0.1"/>
            <inertia ixx="0.05" ixy="0.05" ixz="0.05" iyy="0.05" iyz="0.05" izz="0.05"/>
        </inertial>
        <visual>
            <origin xyz="0 0 0" rpy="0 0 0"/>
            <geometry>
                <box size="3 0.4 0.5"/>
            </geometry>
        </visual>
        <collision>
            <origin xyz="0 0 0" rpy="0 0 0"/>
            <geometry>
                <box size="3 0.4 0.5"/>
            </geometry>
        </collision>
    </link>


    <!-- right_arm_sensor_0_start -->
    <link name="right_arm_sensor_0_start">
        <inertial>
            <origin xyz="0 0 0" rpy="0 0 0"/>
            <mass value="0"/>
            <inertia ixx="0" ixy="0" ixz="0" iyy="0" iyz="0" izz="0"/>
        </inertial>
        <visual>
            <origin xyz="0 0 0" rpy="0 0 0"/>
            <geometry>
                <box size="0.02 0.4 0.5"/>
            </geometry>
        </visual>
        <collision>
            <origin xyz="0 0 0" rpy="0 0 0"/>
            <geometry>
                <box size="0.02 0.4 0.5"/>
            </geometry>
        </collision>
    </link>
    <!-- Joint: right_arm, right_arm_sensor_0_start -->
    <joint name="right_arm_right_arm_sensor_0_start_joint" type="fixed">
        <parent link="right_arm"/>
        <child link="right_arm_sensor_0_start"/>
        <origin xyz="1.5 0 0"
                rpy="0 0 0"/>
        <axis xyz="1 0 0"/>
        
    </joint>


    <!-- right_arm_sensor_0_top -->
    <link name="right_arm_sensor_0_top">
        <inertial>
            <origin xyz="0 0 0" rpy="0 0 0"/>
            <mass value="0"/>
            <inertia ixx="0" ixy="0" ixz="0" iyy="0" iyz="0" izz="0"/>
        </inertial>
        <visual>
            <origin xyz="0 0 0" rpy="0 0 0"/>
            <geometry>
                <box size="1.0 0.4 0.02"/>
            </geometry>
        </visual>
        <collision>
            <origin xyz="0 0 0" rpy="0 0 0"/>
            <geometry>
                <box size="1.0 0.4 0.02"/>
            </geometry>
        </collision>
    </link>
    <!-- Joint: right_arm, right_arm_sensor_0_top -->
    <joint name="right_arm_right_arm_sensor_0_top_joint" type="fixed">
        <parent link="right_arm"/>
        <child link="right_arm_sensor_0_top"/>
        <origin xyz="-1.0 0 0.25"
                rpy="0 0 0"/>
        <axis xyz="1 0 0"/>
        
    </joint>


    <!-- right_arm_sensor_0_bottom -->
    <link name="right_arm_sensor_0_bottom">
        <inertial>
            <origin xyz="0 0 0" rpy="0 0 0"/>
            <mass value="0"/>
            <inertia ixx="0" ixy="0" ixz="0" iyy="0" iyz="0" izz="0"/>
        </inertial>
        <visual>
            <origin xyz="0 0 0" rpy="0 0 0"/>
            <geometry>
                <box size="1.0 0.4 0.02"/>
            </geometry>
        </visual>
        <collision>
            <origin xyz="0 0 0" rpy="0 0 0"/>
            <geometry>
                <box size="1.0 0.4 0.02"/>
            </geometry>
        </collision>
    </link>
    <!-- Joint: right_arm, right_arm_sensor_0_bottom -->
    <joint name="right_arm_right_arm_sensor_0_bottom_joint" type="fixed">
        <parent link="right_arm"/>
        <child link="right_arm_sensor_0_bottom"/>
        <origin xyz="-1.0 0 -0.25"
                rpy="0 0 0"/>
        <axis xyz="1 0 0"/>
        
    </joint>


    <!-- right_arm_sensor_0_left -->
    <link name="right_arm_sensor_0_left">
        <inertial>
            <origin xyz="0 0 0" rpy="0 0 0"/>
            <mass value="0"/>
            <inertia ixx="0" ixy="0" ixz="0" iyy="0" iyz="0" izz="0"/>
        </inertial>
        <visual>
            <origin xyz="0 0 0" rpy="0 0 0"/>
            <geometry>
                <box size="1.0 0.02 0.5"/>
            </geometry>
        </visual>
        <collision>
            <origin xyz="0 0 0" rpy="0 0 0"/>
            <geometry>
                <box size="1.0 0.02 0.5"/>
            </geometry>
        </collision>
    </link>
    <!-- Joint: right_arm, right_arm_sensor_0_left -->
    <joint name="right_arm_right_arm_sensor_0_left_joint" type="fixed">
        <parent link="right_arm"/>
        <child link="right_arm_sensor_0_left"/>
        <origin xyz="-1.0 0.2 0"
                rpy="0 0 0"/>
        <axis xyz="1 0 0"/>
        
    </joint>


    <!-- right_arm_sensor_0_right -->
    <link name="right_arm_sensor_0_right">
        <inertial>
            <origin xyz="0 0 0" rpy="0 0 0"/>
            <mass value="0"/>
            <inertia ixx="0" ixy="0" ixz="0" iyy="0" iyz="0" izz="0"/>
        </inertial>
        <visual>
            <origin xyz="0 0 0" rpy="0 0 0"/>
            <geometry>
                <box size="1.0 0.02 0.5"/>
            </geometry>
        </visual>
        <collision>
            <origin xyz="0 0 0" rpy="0 0 0"/>
            <geometry>
                <box size="1.0 0.02 0.5"/>
            </geometry>
        </collision>
    </link>
    <!-- Joint: right_arm, right_arm_sensor_0_right -->
    <joint name="right_arm_right_arm_sensor_0_right_joint" type="fixed">
        <parent link="right_arm"/>
        <child link="right_arm_sensor_0_right"/>
        <origin xyz="-1.0 -0.2 0"
                rpy="0 0 0"/>
        <axis xyz="1 0 0"/>
        
    </joint>


    <!-- right_arm_sensor_1_top -->
    <link name="right_arm_sensor_1_top">
        <inertial>
            <origin xyz="0 0 0" rpy="0 0 0"/>
            <mass value="0"/>
            <inertia ixx="0" ixy="0" ixz="0" iyy="0" iyz="0" izz="0"/>
        </inertial>
        <visual>
            <origin xyz="0 0 0" rpy="0 0 0"/>
            <geometry>
                <box size="1.0 0.4 0.02"/>
            </geometry>
        </visual>
        <collision>
            <origin xyz="0 0 0" rpy="0 0 0"/>
            <geometry>
                <box size="1.0 0.4 0.02"/>
            </geometry>
        </collision>
    </link>
    <!-- Joint: right_arm, right_arm_sensor_1_top -->
    <joint name="right_arm_right_arm_sensor_1_top_joint" type="fixed">
        <parent link="right_arm"/>
        <child link="right_arm_sensor_1_top"/>
        <origin xyz="0.0 0 0.25"
                rpy="0 0 0"/>
        <axis xyz="1 0 0"/>
        
    </joint>


    <!-- right_arm_sensor_1_bottom -->
    <link name="right_arm_sensor_1_bottom">
        <inertial>
            <origin xyz="0 0 0" rpy="0 0 0"/>
            <mass value="0"/>
            <inertia ixx="0" ixy="0" ixz="0" iyy="0" iyz="0" izz="0"/>
        </inertial>
        <visual>
            <origin xyz="0 0 0" rpy="0 0 0"/>
            <geometry>
                <box size="1.0 0.4 0.02"/>
            </geometry>
        </visual>
        <collision>
            <origin xyz="0 0 0" rpy="0 0 0"/>
            <geometry>
                <box size="1.0 0.4 0.02"/>
            </geometry>
        </collision>
    </link>
    <!-- Joint: right_arm, right_arm_sensor_1_bottom -->
    <joint name="right_arm_right_arm_sensor_1_bottom_joint" type="fixed">
        <parent link="right_arm"/>
        <child link="right_arm_sensor_1_bottom"/>
        <origin xyz="0.0 0 -0.25"
                rpy="0 0 0"/>
        <axis xyz="1 0 0"/>
        
    </joint>


    <!-- right_arm_sensor_1_left -->
    <link name="right_arm_sensor_1_left">
        <inertial>
            <origin xyz="0 0 0" rpy="0 0 0"/>
            <mass value="0"/>
            <inertia ixx="0" ixy="0" ixz="0" iyy="0" iyz="0" izz="0"/>
        </inertial>
        <visual>
            <origin xyz="0 0 0" rpy="0 0 0"/>
            <geometry>
                <box size="1.0 0.02 0.5"/>
            </geometry>
        </visual>
        <collision>
            <origin xyz="0 0 0" rpy="0 0 0"/>
            <geometry>
                <box size="1.0 0.02 0.5"/>
            </geometry>
        </collision>
    </link>
    <!-- Joint: right_arm, right_arm_sensor_1_left -->
    <joint name="right_arm_right_arm_sensor_1_left_joint" type="fixed">
        <parent link="right_arm"/>
        <child link="right_arm_sensor_1_left"/>
        <origin xyz="0.0 0.2 0"
                rpy="0 0 0"/>
        <axis xyz="1 0 0"/>
        
    </joint>


    <!-- right_arm_sensor_1_right -->
    <link name="right_arm_sensor_1_right">
        <inertial>
            <origin xyz="0 0 0" rpy="0 0 0"/>
            <mass value="0"/>
            <inertia ixx="0" ixy="0" ixz="0" iyy="0" iyz="0" izz="0"/>
        </inertial>
        <visual>
            <origin xyz="0 0 0" rpy="0 0 0"/>
            <geometry>
                <box size="1.0 0.02 0.5"/>
            </geometry>
        </visual>
        <collision>
            <origin xyz="0 0 0" rpy="0 0 0"/>
            <geometry>
                <box size="1.0 0.02 0.5"/>
            </geometry>
        </collision>
    </link>
    <!-- Joint: right_arm, right_arm_sensor_1_right -->
    <joint name="right_arm_right_arm_sensor_1_right_joint" type="fixed">
        <parent link="right_arm"/>
        <child link="right_arm_sensor_1_right"/>
        <origin xyz="0.0 -0.2 0"
                rpy="0 0 0"/>
        <axis xyz="1 0 0"/>
        
    </joint>


    <!-- right_arm_sensor_2_stop -->
    <link name="right_arm_sensor_2_stop">
        <inertial>
            <origin xyz="0 0 0" rpy="0 0 0"/>
            <mass value="0"/>
            <inertia ixx="0" ixy="0" ixz="0" iyy="0" iyz="0" izz="0"/>
        </inertial>
        <visual>
            <origin xyz="0 0 0" rpy="0 0 0"/>
            <geometry>
                <box size="0.02 0.4 0.5"/>
            </geometry>
        </visual>
        <collision>
            <origin xyz="0 0 0" rpy="0 0 0"/>
            <geometry>
                <box size="0.02 0.4 0.5"/>
            </geometry>
        </collision>
    </link>
    <!-- Joint: right_arm, right_arm_sensor_2_stop -->
    <joint name="right_arm_right_arm_sensor_2_stop_joint" type="fixed">
        <parent link="right_arm"/>
        <child link="right_arm_sensor_2_stop"/>
        <origin xyz="-1.5 0 0"
                rpy="0 0 0"/>
        <axis xyz="1 0 0"/>
        
    </joint>


    <!-- right_arm_sensor_2_top -->
    <link name="right_arm_sensor_2_top">
        <inertial>
            <origin xyz="0 0 0" rpy="0 0 0"/>
            <mass value="0"/>
            <inertia ixx="0" ixy="0" ixz="0" iyy="0" iyz="0" izz="0"/>
        </inertial>
        <visual>
            <origin xyz="0 0 0" rpy="0 0 0"/>
            <geometry>
                <box size="1.0 0.4 0.02"/>
            </geometry>
        </visual>
        <collision>
            <origin xyz="0 0 0" rpy="0 0 0"/>
            <geometry>
                <box size="1.0 0.4 0.02"/>
            </geometry>
        </collision>
    </link>
    <!-- Joint: right_arm, right_arm_sensor_2_top -->
    <joint name="right_arm_right_arm_sensor_2_top_joint" type="fixed">
        <parent link="right_arm"/>
        <child link="right_arm_sensor_2_top"/>
        <origin xyz="1.0 0 0.25"
                rpy="0 0 0"/>
        <axis xyz="1 0 0"/>
        
    </joint>


    <!-- right_arm_sensor_2_bottom -->
    <link name="right_arm_sensor_2_bottom">
        <inertial>
            <origin xyz="0 0 0" rpy="0 0 0"/>
            <mass value="0"/>
            <inertia ixx="0" ixy="0" ixz="0" iyy="0" iyz="0" izz="0"/>
        </inertial>
        <visual>
            <origin xyz="0 0 0" rpy="0 0 0"/>
            <geometry>
                <box size="1.0 0.4 0.02"/>
            </geometry>
        </visual>
        <collision>
            <origin xyz="0 0 0" rpy="0 0 0"/>
            <geometry>
                <box size="1.0 0.4 0.02"/>
            </geometry>
        </collision>
    </link>
    <!-- Joint: right_arm, right_arm_sensor_2_bottom -->
    <joint name="right_arm_right_arm_sensor_2_bottom_joint" type="fixed">
        <parent link="right_arm"/>
        <child link="right_arm_sensor_2_bottom"/>
        <origin xyz="1.0 0 -0.25"
                rpy="0 0 0"/>
        <axis xyz="1 0 0"/>
        
    </joint>


    <!-- right_arm_sensor_2_left -->
    <link name="right_arm_sensor_2_left">
        <inertial>
            <origin xyz="0 0 0" rpy="0 0 0"/>
            <mass value="0"/>
            <inertia ixx="0" ixy="0" ixz="0" iyy="0" iyz="0" izz="0"/>
        </inertial>
        <visual>
            <origin xyz="0 0 0" rpy="0 0 0"/>
            <geometry>
                <box size="1.0 0.02 0.5"/>
            </geometry>
        </visual>
        <collision>
            <origin xyz="0 0 0" rpy="0 0 0"/>
            <geometry>
                <box size="1.0 0.02 0.5"/>
            </geometry>
        </collision>
    </link>
    <!-- Joint: right_arm, right_arm_sensor_2_left -->
    <joint name="right_arm_right_arm_sensor_2_left_joint" type="fixed">
        <parent link="right_arm"/>
        <child link="right_arm_sensor_2_left"/>
        <origin xyz="1.0 0.2 0"
                rpy="0 0 0"/>
        <axis xyz="1 0 0"/>
        
    </joint>


    <!-- right_arm_sensor_2_right -->
    <link name="right_arm_sensor_2_right">
        <inertial>
            <origin xyz="0 0 0" rpy="0 0 0"/>
            <mass value="0"/>
            <inertia ixx="0" ixy="0" ixz="0" iyy="0" iyz="0" izz="0"/>
        </inertial>
        <visual>
            <origin xyz="0 0 0" rpy="0 0 0"/>
            <geometry>
                <box size="1.0 0.02 0.5"/>
            </geometry>
        </visual>
        <collision>
            <origin xyz="0 0 0" rpy="0 0 0"/>
            <geometry>
                <box size="1.0 0.02 0.5"/>
            </geometry>
        </collision>
    </link>
    <!-- Joint: right_arm, right_arm_sensor_2_right -->
    <joint name="right_arm_right_arm_sensor_2_right_joint" type="fixed">
        <parent link="right_arm"/>
        <child link="right_arm_sensor_2_right"/>
        <origin xyz="1.0 -0.2 0"
                rpy="0 0 0"/>
        <axis xyz="1 0 0"/>
        
    </joint>
    <!-- Joint: joint_2, right_arm -->
    <joint name="joint_2_right_arm_joint" type="fixed">
        <parent link="joint_2"/>
        <child link="right_arm"/>
        <origin xyz="1.3 -0.35 0"
                rpy="0 0 0"/>
        <axis xyz="1 0 0"/>
        
    </joint>


    <!-- right_hand -->
    <link name="right_hand">
        <inertial>
            <origin xyz="0 0 0" rpy="0 0 0"/>
            <mass value="0.1"/>
            <inertia ixx="0.05" ixy="0.05" ixz="0.05" iyy="0.05" iyz="0.05" izz="0.05"/>
        </inertial>
        <visual>
            <origin xyz="0 0 0" rpy="0 0 0"/>
            <geometry>
                <box size="0.4 0.7 0.5"/>
            </geometry>
        </visual>
        <collision>
            <origin xyz="0 0 0" rpy="0 0 0"/>
            <geometry>
                <box size="0.4 0.7 0.5"/>
            </geometry>
        </collision>
    </link>


    <!-- right_hand_sensor_0_start -->
    <link name="right_hand_sensor_0_start">
        <inertial>
            <origin xyz="0 0 0" rpy="0 0 0"/>
            <mass value="0"/>
            <inertia ixx="0" ixy="0" ixz="0" iyy="0" iyz="0" izz="0"/>
        </inertial>
        <visual>
            <origin xyz="0 0 0" rpy="0 0 0"/>
            <geometry>
                <box size="0.4 0.02 0.5"/>
            </geometry>
        </visual>
        <collision>
            <origin xyz="0 0 0" rpy="0 0 0"/>
            <geometry>
                <box size="0.4 0.02 0.5"/>
            </geometry>
        </collision>
    </link>
    <!-- Joint: right_hand, right_hand_sensor_0_start -->
    <joint name="right_hand_right_hand_sensor_0_start_joint" type="fixed">
        <parent link="right_hand"/>
        <child link="right_hand_sensor_0_start"/>
        <origin xyz="0 0.35 0"
                rpy="0 0 0"/>
        <axis xyz="0 0 1"/>
        
    </joint>


    <!-- right_hand_sensor_0_top -->
    <link name="right_hand_sensor_0_top">
        <inertial>
            <origin xyz="0 0 0" rpy="0 0 0"/>
            <mass value="0"/>
            <inertia ixx="0" ixy="0" ixz="0" iyy="0" iyz="0" izz="0"/>
        </inertial>
        <visual>
            <origin xyz="0 0 0" rpy="0 0 0"/>
            <geometry>
                <box size="0.02 0.7 0.5"/>
            </geometry>
        </visual>
        <collision>
            <origin xyz="0 0 0" rpy="0 0 0"/>
            <geometry>
                <box size="0.02 0.7 0.5"/>
            </geometry>
        </collision>
    </link>
    <!-- Joint: right_hand, right_hand_sensor_0_top -->
    <joint name="right_hand_right_hand_sensor_0_top_joint" type="fixed">
        <parent link="right_hand"/>
        <child link="right_hand_sensor_0_top"/>
        <origin xyz="0.2 0 0"
                rpy="0 0 0"/>
        <axis xyz="0 0 1"/>
        
    </joint>


    <!-- right_hand_sensor_0_bottom -->
    <link name="right_hand_sensor_0_bottom">
        <inertial>
            <origin xyz="0 0 0" rpy="0 0 0"/>
            <mass value="0"/>
            <inertia ixx="0" ixy="0" ixz="0" iyy="0" iyz="0" izz="0"/>
        </inertial>
        <visual>
            <origin xyz="0 0 0" rpy="0 0 0"/>
            <geometry>
                <box size="0.02 0.7 0.5"/>
            </geometry>
        </visual>
        <collision>
            <origin xyz="0 0 0" rpy="0 0 0"/>
            <geometry>
                <box size="0.02 0.7 0.5"/>
            </geometry>
        </collision>
    </link>
    <!-- Joint: right_hand, right_hand_sensor_0_bottom -->
    <joint name="right_hand_right_hand_sensor_0_bottom_joint" type="fixed">
        <parent link="right_hand"/>
        <child link="right_hand_sensor_0_bottom"/>
        <origin xyz="-0.2 0 0"
                rpy="0 0 0"/>
        <axis xyz="0 0 1"/>
        
    </joint>


    <!-- right_hand_sensor_0_left -->
    <link name="right_hand_sensor_0_left">
        <inertial>
            <origin xyz="0 0 0" rpy="0 0 0"/>
            <mass value="0"/>
            <inertia ixx="0" ixy="0" ixz="0" iyy="0" iyz="0" izz="0"/>
        </inertial>
        <visual>
            <origin xyz="0 0 0" rpy="0 0 0"/>
            <geometry>
                <box size="0.4 0.7 0.02"/>
            </geometry>
        </visual>
        <collision>
            <origin xyz="0 0 0" rpy="0 0 0"/>
            <geometry>
                <box size="0.4 0.7 0.02"/>
            </geometry>
        </collision>
    </link>
    <!-- Joint: right_hand, right_hand_sensor_0_left -->
    <joint name="right_hand_right_hand_sensor_0_left_joint" type="fixed">
        <parent link="right_hand"/>
        <child link="right_hand_sensor_0_left"/>
        <origin xyz="0 0 0.25"
                rpy="0 0 0"/>
        <axis xyz="0 0 1"/>
        
    </joint>


    <!-- right_hand_sensor_0_right -->
    <link name="right_hand_sensor_0_right">
        <inertial>
            <origin xyz="0 0 0" rpy="0 0 0"/>
            <mass value="0"/>
            <inertia ixx="0" ixy="0" ixz="0" iyy="0" iyz="0" izz="0"/>
        </inertial>
        <visual>
            <origin xyz="0 0 0" rpy="0 0 0"/>
            <geometry>
                <box size="0.4 0.7 0.02"/>
            </geometry>
        </visual>
        <collision>
            <origin xyz="0 0 0" rpy="0 0 0"/>
            <geometry>
                <box size="0.4 0.7 0.02"/>
            </geometry>
        </collision>
    </link>
    <!-- Joint: right_hand, right_hand_sensor_0_right -->
    <joint name="right_hand_right_hand_sensor_0_right_joint" type="fixed">
        <parent link="right_hand"/>
        <child link="right_hand_sensor_0_right"/>
        <origin xyz="0 0 -0.25"
                rpy="0 0 0"/>
        <axis xyz="0 0 1"/>
        
    </joint>
    <!-- Joint: right_arm, right_hand -->
    <joint name="right_arm_right_hand_joint" type="fixed">
        <parent link="right_arm"/>
        <child link="right_hand"/>
        <origin xyz="1.3 0.55 0"
                rpy="0 0 0"/>
        <axis xyz="0 0 1"/>
        
    </joint>


    <!-- body_face_front_0 -->
    <link name="body_face_front_0">
        <inertial>
            <origin xyz="0 0 0" rpy="0 0 0"/>
            <mass value="0"/>
            <inertia ixx="0.05" ixy="0.05" ixz="0.05" iyy="0.05" iyz="0.05" izz="0.05"/>
        </inertial>
        <visual>
            <origin xyz="0 0 0" rpy="0 0 0"/>
            <geometry>
                <box size="0.002 0.1111111111111111 0.1111111111111111"/>
            </geometry>
        </visual>
        <collision>
            <origin xyz="0 0 0" rpy="0 0 0"/>
            <geometry>
                <box size="0.002 0.1111111111111111 0.1111111111111111"/>
            </geometry>
        </collision>
    </link>
    <!-- Joint: body, body_face_front_0 -->
    <joint name="body_body_face_front_0_joint" type="fixed">
        <parent link="body"/>
        <child link="body_face_front_0"/>
        <origin xyz="0.501 -0.33333333333333337 0.11111111111111116"
                rpy="0 0 0"/>
        <axis xyz="0 0 1"/>
        
    </joint>


    <!-- body_face_front_1 -->
    <link name="body_face_front_1">
        <inertial>
            <origin xyz="0 0 0" rpy="0 0 0"/>
            <mass value="0"/>
            <inertia ixx="0.05" ixy="0.05" ixz="0.05" iyy="0.05" iyz="0.05" izz="0.05"/>
        </inertial>
        <visual>
            <origin xyz="0 0 0" rpy="0 0 0"/>
            <geometry>
                <box size="0.002 0.1111111111111111 0.1111111111111111"/>
            </geometry>
        </visual>
        <collision>
            <origin xyz="0 0 0" rpy="0 0 0"/>
            <geometry>
                <box size="0.002 0.1111111111111111 0.1111111111111111"/>
            </geometry>
        </collision>
    </link>
    <!-- Joint: body, body_face_front_1 -->
    <joint name="body_body_face_front_1_joint" type="fixed">
        <parent link="body"/>
        <child link="body_face_front_1"/>
        <origin xyz="0.501 -0.2222222222222222 0.2222222222222222"
                rpy="0 0 0"/>
        <axis xyz="0 0 1"/>
        
    </joint>


    <!-- body_face_front_2 -->
    <link name="body_face_front_2">
        <inertial>
            <origin xyz="0 0 0" rpy="0 0 0"/>
            <mass value="0"/>
            <inertia ixx="0.05" ixy="0.05" ixz="0.05" iyy="0.05" iyz="0.05" izz="0.05"/>
        </inertial>
        <visual>
            <origin xyz="0 0 0" rpy="0 0 0"/>
            <geometry>
                <box size="0.002 0.1111111111111111 0.1111111111111111"/>
            </geometry>
        </visual>
        <collision>
            <origin xyz="0 0 0" rpy="0 0 0"/>
            <geometry>
                <box size="0.002 0.1111111111111111 0.1111111111111111"/>
            </geometry>
        </collision>
    </link>
    <!-- Joint: body, body_face_front_2 -->
    <joint name="body_body_face_front_2_joint" type="fixed">
        <parent link="body"/>
        <child link="body_face_front_2"/>
        <origin xyz="0.501 -0.1111111111111111 0.11111111111111116"
                rpy="0 0 0"/>
        <axis xyz="0 0 1"/>
        
    </joint>


    <!-- body_face_front_3 -->
    <link name="body_face_front_3">
        <inertial>
            <origin xyz="0 0 0" rpy="0 0 0"/>
            <mass value="0"/>
            <inertia ixx="0.05" ixy="0.05" ixz="0.05" iyy="0.05" iyz="0.05" izz="0.05"/>
        </inertial>
        <visual>
            <origin xyz="0 0 0" rpy="0 0 0"/>
            <geometry>
                <box size="0.002 0.1111111111111111 0.1111111111111111"/>
            </geometry>
        </visual>
        <collision>
            <origin xyz="0 0 0" rpy="0 0 0"/>
            <geometry>
                <box size="0.002 0.1111111111111111 0.1111111111111111"/>
            </geometry>
        </collision>
    </link>
    <!-- Joint: body, body_face_front_3 -->
    <joint name="body_body_face_front_3_joint" type="fixed">
        <parent link="body"/>
        <child link="body_face_front_3"/>
        <origin xyz="0.501 -0.1111111111111111 -0.2222222222222222"
                rpy="0 0 0"/>
        <axis xyz="0 0 1"/>
        
    </joint>


    <!-- body_face_front_4 -->
    <link name="body_face_front_4">
        <inertial>
            <origin xyz="0 0 0" rpy="0 0 0"/>
            <mass value="0"/>
            <inertia ixx="0.05" ixy="0.05" ixz="0.05" iyy="0.05" iyz="0.05" izz="0.05"/>
        </inertial>
        <visual>
            <origin xyz="0 0 0" rpy="0 0 0"/>
            <geometry>
                <box size="0.002 0.1111111111111111 0.1111111111111111"/>
            </geometry>
        </visual>
        <collision>
            <origin xyz="0 0 0" rpy="0 0 0"/>
            <geometry>
                <box size="0.002 0.1111111111111111 0.1111111111111111"/>
            </geometry>
        </collision>
    </link>
    <!-- Joint: body, body_face_front_4 -->
    <joint name="body_body_face_front_4_joint" type="fixed">
        <parent link="body"/>
        <child link="body_face_front_4"/>
        <origin xyz="0.501 0.0 -0.2222222222222222"
                rpy="0 0 0"/>
        <axis xyz="0 0 1"/>
        
    </joint>


    <!-- body_face_front_5 -->
    <link name="body_face_front_5">
        <inertial>
            <origin xyz="0 0 0" rpy="0 0 0"/>
            <mass value="0"/>
            <inertia ixx="0.05" ixy="0.05" ixz="0.05" iyy="0.05" iyz="0.05" izz="0.05"/>
        </inertial>
        <visual>
            <origin xyz="0 0 0" rpy="0 0 0"/>
            <geometry>
                <box size="0.002 0.1111111111111111 0.1111111111111111"/>
            </geometry>
        </visual>
        <collision>
            <origin xyz="0 0 0" rpy="0 0 0"/>
            <geometry>
                <box size="0.002 0.1111111111111111 0.1111111111111111"/>
            </geometry>
        </collision>
    </link>
    <!-- Joint: body, body_face_front_5 -->
    <joint name="body_body_face_front_5_joint" type="fixed">
        <parent link="body"/>
        <child link="body_face_front_5"/>
        <origin xyz="0.501 0.11111111111111116 0.11111111111111116"
                rpy="0 0 0"/>
        <axis xyz="0 0 1"/>
        
    </joint>


    <!-- body_face_front_6 -->
    <link name="body_face_front_6">
        <inertial>
            <origin xyz="0 0 0" rpy="0 0 0"/>
            <mass value="0"/>
            <inertia ixx="0.05" ixy="0.05" ixz="0.05" iyy="0.05" iyz="0.05" izz="0.05"/>
        </inertial>
        <visual>
            <origin xyz="0 0 0" rpy="0 0 0"/>
            <geometry>
                <box size="0.002 0.1111111111111111 0.1111111111111111"/>
            </geometry>
        </visual>
        <collision>
            <origin xyz="0 0 0" rpy="0 0 0"/>
            <geometry>
                <box size="0.002 0.1111111111111111 0.1111111111111111"/>
            </geometry>
        </collision>
    </link>
    <!-- Joint: body, body_face_front_6 -->
    <joint name="body_body_face_front_6_joint" type="fixed">
        <parent link="body"/>
        <child link="body_face_front_6"/>
        <origin xyz="0.501 0.11111111111111116 -0.2222222222222222"
                rpy="0 0 0"/>
        <axis xyz="0 0 1"/>
        
    </joint>


    <!-- body_face_front_7 -->
    <link name="body_face_front_7">
        <inertial>
            <origin xyz="0 0 0" rpy="0 0 0"/>
            <mass value="0"/>
            <inertia ixx="0.05" ixy="0.05" ixz="0.05" iyy="0.05" iyz="0.05" izz="0.05"/>
        </inertial>
        <visual>
            <origin xyz="0 0 0" rpy="0 0 0"/>
            <geometry>
                <box size="0.002 0.1111111111111111 0.1111111111111111"/>
            </geometry>
        </visual>
        <collision>
            <origin xyz="0 0 0" rpy="0 0 0"/>
            <geometry>
                <box size="0.002 0.1111111111111111 0.1111111111111111"/>
            </geometry>
        </collision>
    </link>
    <!-- Joint: body, body_face_front_7 -->
    <joint name="body_body_face_front_7_joint" type="fixed">
        <parent link="body"/>
        <child link="body_face_front_7"/>
        <origin xyz="0.501 0.2222222222222222 0.2222222222222222"
                rpy="0 0 0"/>
        <axis xyz="0 0 1"/>
        
    </joint>


    <!-- body_face_front_8 -->
    <link name="body_face_front_8">
        <inertial>
            <origin xyz="0 0 0" rpy="0 0 0"/>
            <mass value="0"/>
            <inertia ixx="0.05" ixy="0.05" ixz="0.05" iyy="0.05" iyz="0.05" izz="0.05"/>
        </inertial>
        <visual>
            <origin xyz="0 0 0" rpy="0 0 0"/>
            <geometry>
                <box size="0.002 0.1111111111111111 0.1111111111111111"/>
            </geometry>
        </visual>
        <collision>
            <origin xyz="0 0 0" rpy="0 0 0"/>
            <geometry>
                <box size="0.002 0.1111111111111111 0.1111111111111111"/>
            </geometry>
        </collision>
    </link>
    <!-- Joint: body, body_face_front_8 -->
    <joint name="body_body_face_front_8_joint" type="fixed">
        <parent link="body"/>
        <child link="body_face_front_8"/>
        <origin xyz="0.501 0.33333333333333337 0.11111111111111116"
                rpy="0 0 0"/>
        <axis xyz="0 0 1"/>
        
    </joint>


    <!-- body_face_top_0 -->
    <link name="body_face_top_0">
        <inertial>
            <origin xyz="0 0 0" rpy="0 0 0"/>
            <mass value="0"/>
            <inertia ixx="0.05" ixy="0.05" ixz="0.05" iyy="0.05" iyz="0.05" izz="0.05"/>
        </inertial>
        <visual>
            <origin xyz="0 0 0" rpy="0 0 0"/>
            <geometry>
                <box size="0.1111111111111111 0.1111111111111111 0.002"/>
            </geometry>
        </visual>
        <collision>
            <origin xyz="0 0 0" rpy="0 0 0"/>
            <geometry>
                <box size="0.1111111111111111 0.1111111111111111 0.002"/>
            </geometry>
        </collision>
    </link>
    <!-- Joint: body, body_face_top_0 -->
    <joint name="body_body_face_top_0_joint" type="fixed">
        <parent link="body"/>
        <child link="body_face_top_0"/>
        <origin xyz="0.11111111111111116 -0.2222222222222222 0.501"
                rpy="0 0 0"/>
        <axis xyz="0 0 1"/>
        
    </joint>


    <!-- body_face_top_1 -->
    <link name="body_face_top_1">
        <inertial>
            <origin xyz="0 0 0" rpy="0 0 0"/>
            <mass value="0"/>
            <inertia ixx="0.05" ixy="0.05" ixz="0.05" iyy="0.05" iyz="0.05" izz="0.05"/>
        </inertial>
        <visual>
            <origin xyz="0 0 0" rpy="0 0 0"/>
            <geometry>
                <box size="0.1111111111111111 0.1111111111111111 0.002"/>
            </geometry>
        </visual>
        <collision>
            <origin xyz="0 0 0" rpy="0 0 0"/>
            <geometry>
                <box size="0.1111111111111111 0.1111111111111111 0.002"/>
            </geometry>
        </collision>
    </link>
    <!-- Joint: body, body_face_top_1 -->
    <joint name="body_body_face_top_1_joint" type="fixed">
        <parent link="body"/>
        <child link="body_face_top_1"/>
        <origin xyz="0.11111111111111116 -0.1111111111111111 0.501"
                rpy="0 0 0"/>
        <axis xyz="0 0 1"/>
        
    </joint>


    <!-- body_face_top_2 -->
    <link name="body_face_top_2">
        <inertial>
            <origin xyz="0 0 0" rpy="0 0 0"/>
            <mass value="0"/>
            <inertia ixx="0.05" ixy="0.05" ixz="0.05" iyy="0.05" iyz="0.05" izz="0.05"/>
        </inertial>
        <visual>
            <origin xyz="0 0 0" rpy="0 0 0"/>
            <geometry>
                <box size="0.1111111111111111 0.1111111111111111 0.002"/>
            </geometry>
        </visual>
        <collision>
            <origin xyz="0 0 0" rpy="0 0 0"/>
            <geometry>
                <box size="0.1111111111111111 0.1111111111111111 0.002"/>
            </geometry>
        </collision>
    </link>
    <!-- Joint: body, body_face_top_2 -->
    <joint name="body_body_face_top_2_joint" type="fixed">
        <parent link="body"/>
        <child link="body_face_top_2"/>
        <origin xyz="0.2222222222222222 -0.1111111111111111 0.501"
                rpy="0 0 0"/>
        <axis xyz="0 0 1"/>
        
    </joint>


    <!-- body_face_top_3 -->
    <link name="body_face_top_3">
        <inertial>
            <origin xyz="0 0 0" rpy="0 0 0"/>
            <mass value="0"/>
            <inertia ixx="0.05" ixy="0.05" ixz="0.05" iyy="0.05" iyz="0.05" izz="0.05"/>
        </inertial>
        <visual>
            <origin xyz="0 0 0" rpy="0 0 0"/>
            <geometry>
                <box size="0.1111111111111111 0.1111111111111111 0.002"/>
            </geometry>
        </visual>
        <collision>
            <origin xyz="0 0 0" rpy="0 0 0"/>
            <geometry>
                <box size="0.1111111111111111 0.1111111111111111 0.002"/>
            </geometry>
        </collision>
    </link>
    <!-- Joint: body, body_face_top_3 -->
    <joint name="body_body_face_top_3_joint" type="fixed">
        <parent link="body"/>
        <child link="body_face_top_3"/>
        <origin xyz="-0.33333333333333337 0.0 0.501"
                rpy="0 0 0"/>
        <axis xyz="0 0 1"/>
        
    </joint>


    <!-- body_face_top_4 -->
    <link name="body_face_top_4">
        <inertial>
            <origin xyz="0 0 0" rpy="0 0 0"/>
            <mass value="0"/>
            <inertia ixx="0.05" ixy="0.05" ixz="0.05" iyy="0.05" iyz="0.05" izz="0.05"/>
        </inertial>
        <visual>
            <origin xyz="0 0 0" rpy="0 0 0"/>
            <geometry>
                <box size="0.1111111111111111 0.1111111111111111 0.002"/>
            </geometry>
        </visual>
        <collision>
            <origin xyz="0 0 0" rpy="0 0 0"/>
            <geometry>
                <box size="0.1111111111111111 0.1111111111111111 0.002"/>
            </geometry>
        </collision>
    </link>
    <!-- Joint: body, body_face_top_4 -->
    <joint name="body_body_face_top_4_joint" type="fixed">
        <parent link="body"/>
        <child link="body_face_top_4"/>
        <origin xyz="-0.2222222222222222 0.0 0.501"
                rpy="0 0 0"/>
        <axis xyz="0 0 1"/>
        
    </joint>


    <!-- body_face_top_5 -->
    <link name="body_face_top_5">
        <inertial>
            <origin xyz="0 0 0" rpy="0 0 0"/>
            <mass value="0"/>
            <inertia ixx="0.05" ixy="0.05" ixz="0.05" iyy="0.05" iyz="0.05" izz="0.05"/>
        </inertial>
        <visual>
            <origin xyz="0 0 0" rpy="0 0 0"/>
            <geometry>
                <box size="0.1111111111111111 0.1111111111111111 0.002"/>
            </geometry>
        </visual>
        <collision>
            <origin xyz="0 0 0" rpy="0 0 0"/>
            <geometry>
                <box size="0.1111111111111111 0.1111111111111111 0.002"/>
            </geometry>
        </collision>
    </link>
    <!-- Joint: body, body_face_top_5 -->
    <joint name="body_body_face_top_5_joint" type="fixed">
        <parent link="body"/>
        <child link="body_face_top_5"/>
        <origin xyz="-0.1111111111111111 0.0 0.501"
                rpy="0 0 0"/>
        <axis xyz="0 0 1"/>
        
    </joint>


    <!-- body_face_top_6 -->
    <link name="body_face_top_6">
        <inertial>
            <origin xyz="0 0 0" rpy="0 0 0"/>
            <mass value="0"/>
            <inertia ixx="0.05" ixy="0.05" ixz="0.05" iyy="0.05" iyz="0.05" izz="0.05"/>
        </inertial>
        <visual>
            <origin xyz="0 0 0" rpy="0 0 0"/>
            <geometry>
                <box size="0.1111111111111111 0.1111111111111111 0.002"/>
            </geometry>
        </visual>
        <collision>
            <origin xyz="0 0 0" rpy="0 0 0"/>
            <geometry>
                <box size="0.1111111111111111 0.1111111111111111 0.002"/>
            </geometry>
        </collision>
    </link>
    <!-- Joint: body, body_face_top_6 -->
    <joint name="body_body_face_top_6_joint" type="fixed">
        <parent link="body"/>
        <child link="body_face_top_6"/>
        <origin xyz="0.0 0.0 0.501"
                rpy="0 0 0"/>
        <axis xyz="0 0 1"/>
        
    </joint>


    <!-- body_face_top_7 -->
    <link name="body_face_top_7">
        <inertial>
            <origin xyz="0 0 0" rpy="0 0 0"/>
            <mass value="0"/>
            <inertia ixx="0.05" ixy="0.05" ixz="0.05" iyy="0.05" iyz="0.05" izz="0.05"/>
        </inertial>
        <visual>
            <origin xyz="0 0 0" rpy="0 0 0"/>
            <geometry>
                <box size="0.1111111111111111 0.1111111111111111 0.002"/>
            </geometry>
        </visual>
        <collision>
            <origin xyz="0 0 0" rpy="0 0 0"/>
            <geometry>
                <box size="0.1111111111111111 0.1111111111111111 0.002"/>
            </geometry>
        </collision>
    </link>
    <!-- Joint: body, body_face_top_7 -->
    <joint name="body_body_face_top_7_joint" type="fixed">
        <parent link="body"/>
        <child link="body_face_top_7"/>
        <origin xyz="0.11111111111111116 0.0 0.501"
                rpy="0 0 0"/>
        <axis xyz="0 0 1"/>
        
    </joint>


    <!-- body_face_top_8 -->
    <link name="body_face_top_8">
        <inertial>
            <origin xyz="0 0 0" rpy="0 0 0"/>
            <mass value="0"/>
            <inertia ixx="0.05" ixy="0.05" ixz="0.05" iyy="0.05" iyz="0.05" izz="0.05"/>
        </inertial>
        <visual>
            <origin xyz="0 0 0" rpy="0 0 0"/>
            <geometry>
                <box size="0.1111111111111111 0.1111111111111111 0.002"/>
            </geometry>
        </visual>
        <collision>
            <origin xyz="0 0 0" rpy="0 0 0"/>
            <geometry>
                <box size="0.1111111111111111 0.1111111111111111 0.002"/>
            </geometry>
        </collision>
    </link>
    <!-- Joint: body, body_face_top_8 -->
    <joint name="body_body_face_top_8_joint" type="fixed">
        <parent link="body"/>
        <child link="body_face_top_8"/>
        <origin xyz="0.2222222222222222 0.0 0.501"
                rpy="0 0 0"/>
        <axis xyz="0 0 1"/>
        
    </joint>


    <!-- body_face_top_9 -->
    <link name="body_face_top_9">
        <inertial>
            <origin xyz="0 0 0" rpy="0 0 0"/>
            <mass value="0"/>
            <inertia ixx="0.05" ixy="0.05" ixz="0.05" iyy="0.05" iyz="0.05" izz="0.05"/>
        </inertial>
        <visual>
            <origin xyz="0 0 0" rpy="0 0 0"/>
            <geometry>
                <box size="0.1111111111111111 0.1111111111111111 0.002"/>
            </geometry>
        </visual>
        <collision>
            <origin xyz="0 0 0" rpy="0 0 0"/>
            <geometry>
                <box size="0.1111111111111111 0.1111111111111111 0.002"/>
            </geometry>
        </collision>
    </link>
    <!-- Joint: body, body_face_top_9 -->
    <joint name="body_body_face_top_9_joint" type="fixed">
        <parent link="body"/>
        <child link="body_face_top_9"/>
        <origin xyz="0.33333333333333337 0.0 0.501"
                rpy="0 0 0"/>
        <axis xyz="0 0 1"/>
        
    </joint>


    <!-- body_face_top_10 -->
    <link name="body_face_top_10">
        <inertial>
            <origin xyz="0 0 0" rpy="0 0 0"/>
            <mass value="0"/>
            <inertia ixx="0.05" ixy="0.05" ixz="0.05" iyy="0.05" iyz="0.05" izz="0.05"/>
        </inertial>
        <visual>
            <origin xyz="0 0 0" rpy="0 0 0"/>
            <geometry>
                <box size="0.1111111111111111 0.1111111111111111 0.002"/>
            </geometry>
        </visual>
        <collision>
            <origin xyz="0 0 0" rpy="0 0 0"/>
            <geometry>
                <box size="0.1111111111111111 0.1111111111111111 0.002"/>
            </geometry>
        </collision>
    </link>
    <!-- Joint: body, body_face_top_10 -->
    <joint name="body_body_face_top_10_joint" type="fixed">
        <parent link="body"/>
        <child link="body_face_top_10"/>
        <origin xyz="0.11111111111111116 0.11111111111111116 0.501"
                rpy="0 0 0"/>
        <axis xyz="0 0 1"/>
        
    </joint>


    <!-- body_face_top_11 -->
    <link name="body_face_top_11">
        <inertial>
            <origin xyz="0 0 0" rpy="0 0 0"/>
            <mass value="0"/>
            <inertia ixx="0.05" ixy="0.05" ixz="0.05" iyy="0.05" iyz="0.05" izz="0.05"/>
        </inertial>
        <visual>
            <origin xyz="0 0 0" rpy="0 0 0"/>
            <geometry>
                <box size="0.1111111111111111 0.1111111111111111 0.002"/>
            </geometry>
        </visual>
        <collision>
            <origin xyz="0 0 0" rpy="0 0 0"/>
            <geometry>
                <box size="0.1111111111111111 0.1111111111111111 0.002"/>
            </geometry>
        </collision>
    </link>
    <!-- Joint: body, body_face_top_11 -->
    <joint name="body_body_face_top_11_joint" type="fixed">
        <parent link="body"/>
        <child link="body_face_top_11"/>
        <origin xyz="0.2222222222222222 0.11111111111111116 0.501"
                rpy="0 0 0"/>
        <axis xyz="0 0 1"/>
        
    </joint>


    <!-- body_face_top_12 -->
    <link name="body_face_top_12">
        <inertial>
            <origin xyz="0 0 0" rpy="0 0 0"/>
            <mass value="0"/>
            <inertia ixx="0.05" ixy="0.05" ixz="0.05" iyy="0.05" iyz="0.05" izz="0.05"/>
        </inertial>
        <visual>
            <origin xyz="0 0 0" rpy="0 0 0"/>
            <geometry>
                <box size="0.1111111111111111 0.1111111111111111 0.002"/>
            </geometry>
        </visual>
        <collision>
            <origin xyz="0 0 0" rpy="0 0 0"/>
            <geometry>
                <box size="0.1111111111111111 0.1111111111111111 0.002"/>
            </geometry>
        </collision>
    </link>
    <!-- Joint: body, body_face_top_12 -->
    <joint name="body_body_face_top_12_joint" type="fixed">
        <parent link="body"/>
        <child link="body_face_top_12"/>
        <origin xyz="0.11111111111111116 0.2222222222222222 0.501"
                rpy="0 0 0"/>
        <axis xyz="0 0 1"/>
        
    </joint>


</robot>
